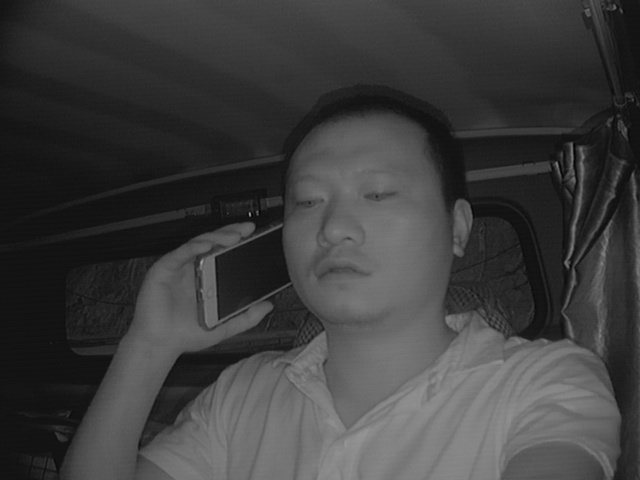hand: (132, 217, 266, 345)
